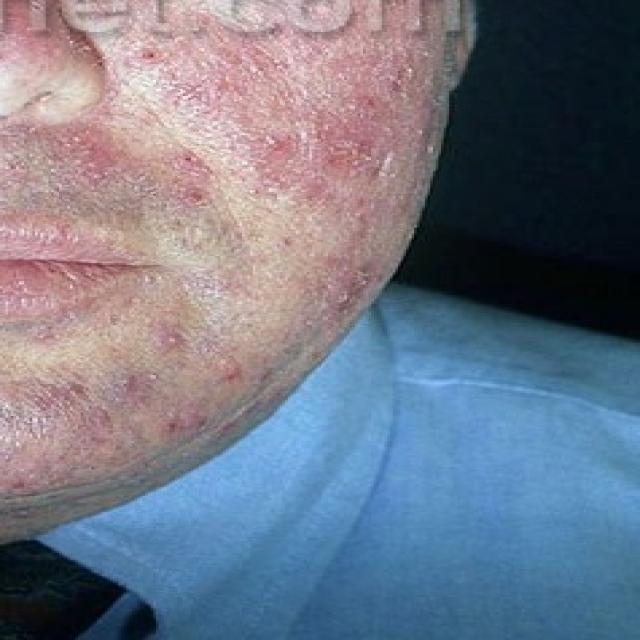Rosacea: (158, 36, 388, 298)
